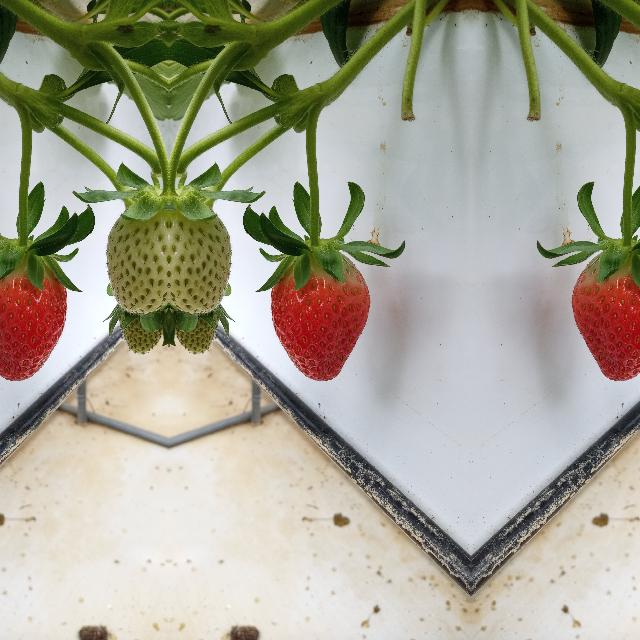Health_100: (268, 250, 369, 382), (571, 250, 640, 381), (0, 250, 67, 381)
Health_25: (168, 191, 230, 315), (106, 191, 168, 315)
